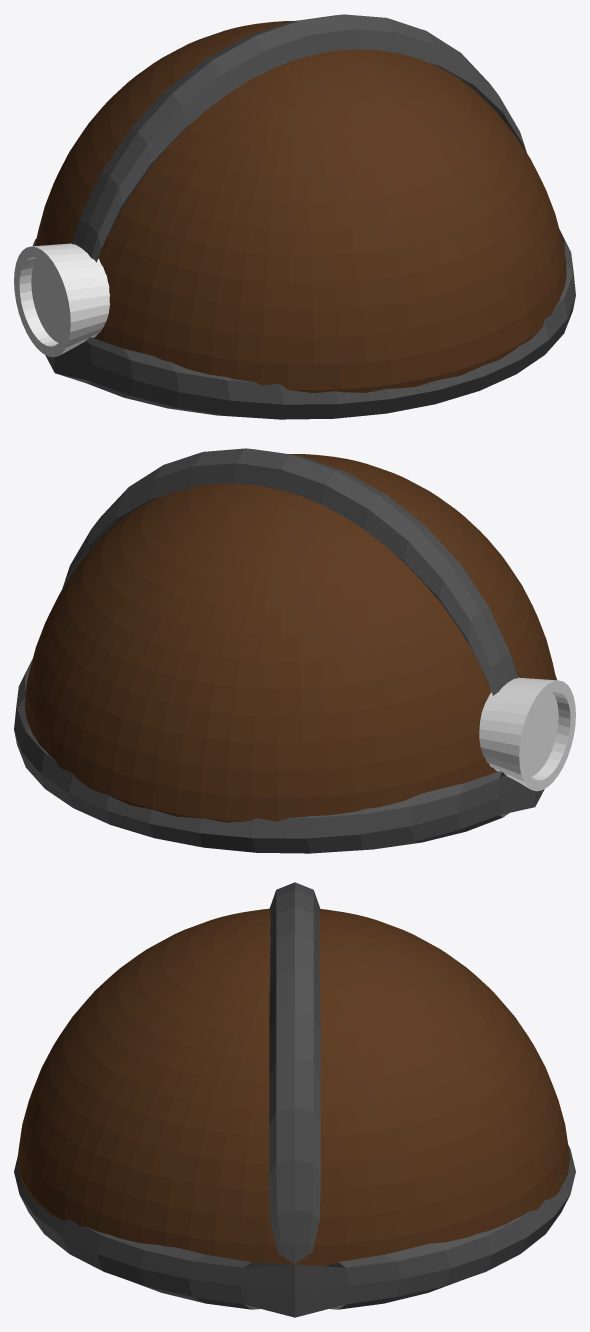
File: Hat miner.fbx
3 views of the same model, one above another, from view 1: azimuth 30°, elevation 25°; view 2: azimuth 150°, elevation 25°; view 3: azimuth 270°, elevation 25° (orthographic).
Parts seen in each view (by area): view 1: Sphere, Cylinder.001, Cylinder.002, Cylinder; view 2: Sphere, Cylinder.002, Cylinder.001, Cylinder; view 3: Sphere, Cylinder.002, Cylinder.001.
Boxes of the visible parts, left/top/right/bottom form: Sphere: left=35, top=21, right=566, bottom=393; Cylinder.001: left=71, top=14, right=526, bottom=262; Cylinder.002: left=32, top=229, right=575, bottom=419; Cylinder: left=14, top=243, right=109, bottom=357; Sphere: left=24, top=454, right=555, bottom=822; Cylinder.002: left=14, top=659, right=557, bottom=853; Cylinder.001: left=62, top=448, right=518, bottom=695; Cylinder: left=479, top=677, right=575, bottom=791; Sphere: left=17, top=908, right=569, bottom=1266; Cylinder.002: left=14, top=1145, right=575, bottom=1317; Cylinder.001: left=269, top=882, right=320, bottom=1263.
Size of the model in its own units: 205 by 114 by 199.
